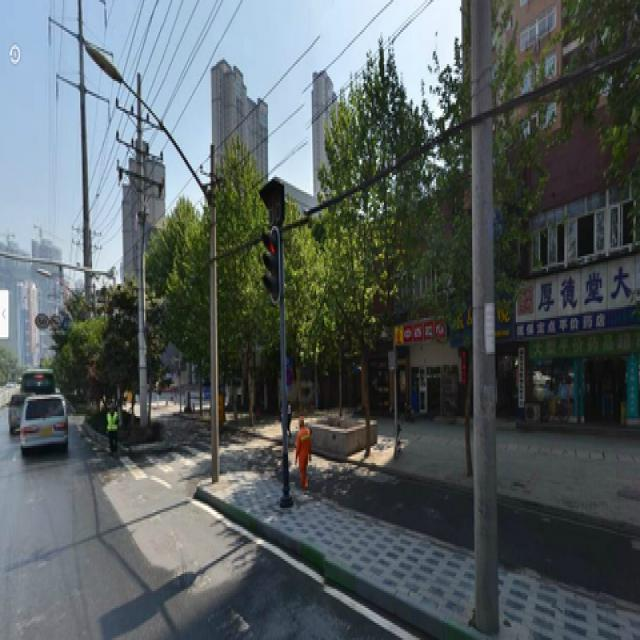meta: (331, 100, 404, 457)
